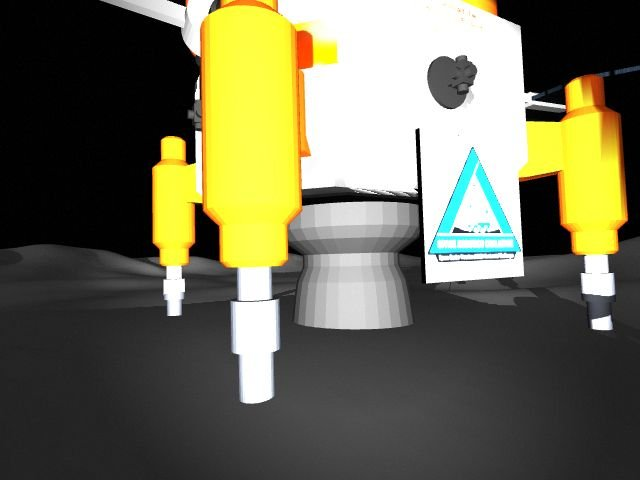basemarker: (428, 145, 523, 265)
